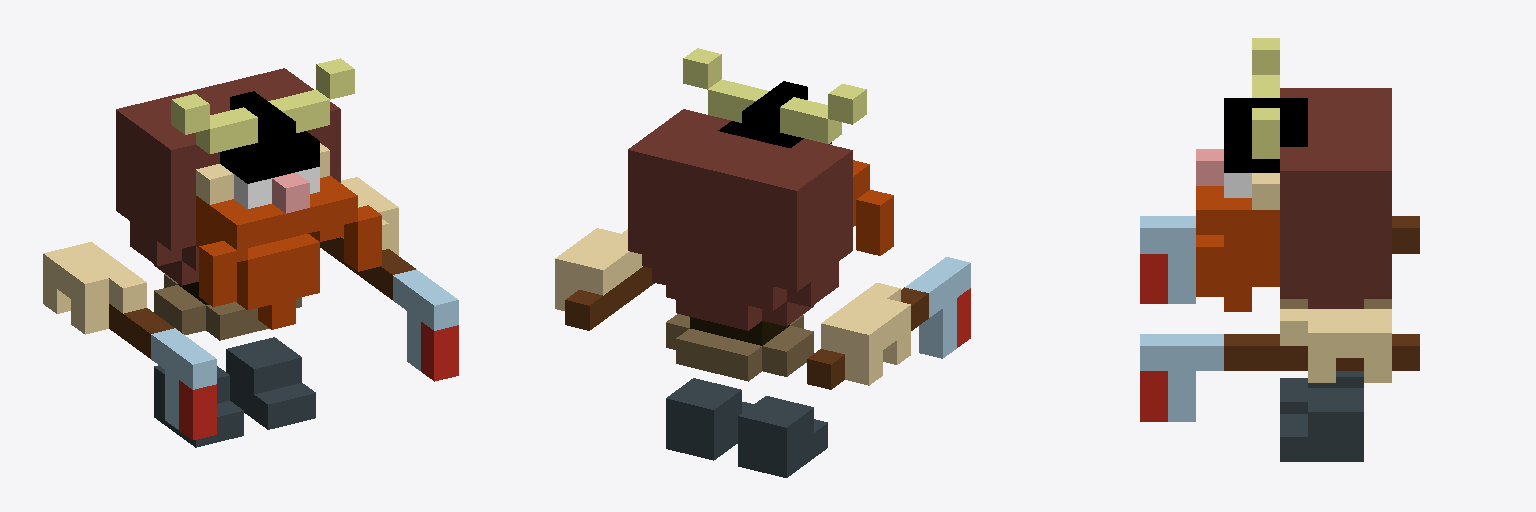
The picture shows the model from 3 angles: view 1: azimuth 30°, elevation 25°; view 2: azimuth 150°, elevation 25°; view 3: azimuth 270°, elevation 25°; orthographic projection.
Visible parts, largest first — view 1: object 1; view 2: object 1; view 3: object 1.
Boxes of the visible parts, box(x1,y1,x2,y2) form: object 1: box(43, 58, 458, 447); object 1: box(555, 48, 970, 477); object 1: box(1140, 38, 1419, 461).
Size of the model in its own units: 1.3 by 1.4 by 1.
Materials: 1 (1 with a texture image).